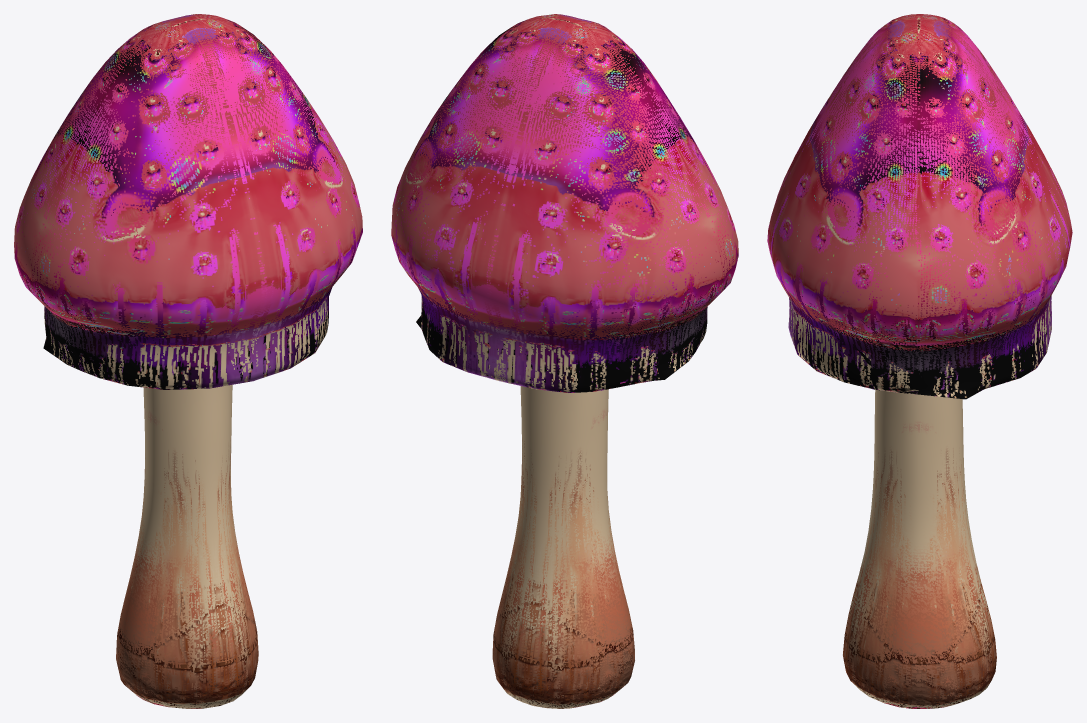
The model's file is honguitoo.fbx.
The picture shows the model from 3 angles, left to right: view 1: azimuth 30°, elevation 25°; view 2: azimuth 150°, elevation 25°; view 3: azimuth 270°, elevation 25°; orthographic projection.
Parts seen in each view (by area): view 1: RetopoFlow.001; view 2: RetopoFlow.001; view 3: RetopoFlow.001.
Boxes of the visible parts, x1=… form: RetopoFlow.001: x1=14, y1=14, x2=362, y2=708; RetopoFlow.001: x1=391, y1=14, x2=738, y2=708; RetopoFlow.001: x1=767, y1=14, x2=1072, y2=708.
Bounding box in the file's own units: 244 × 495 × 204.
